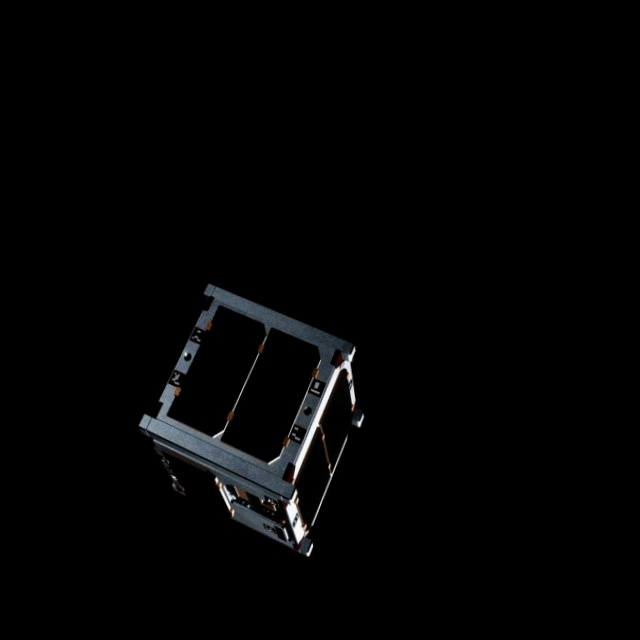satellite: (143, 280, 369, 569)
